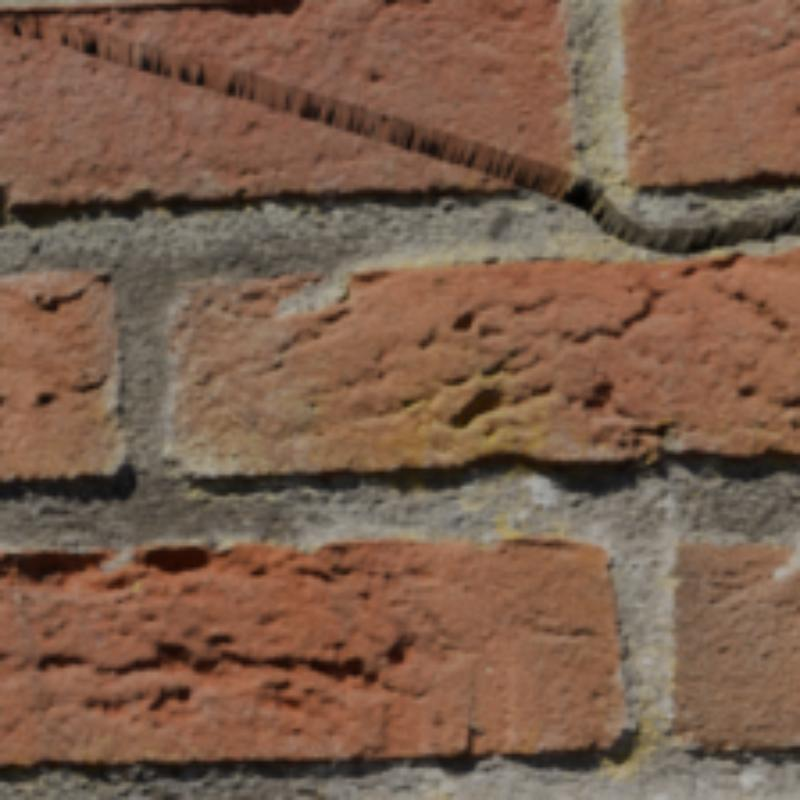pothole: (57, 29, 796, 250), (0, 21, 43, 36)
